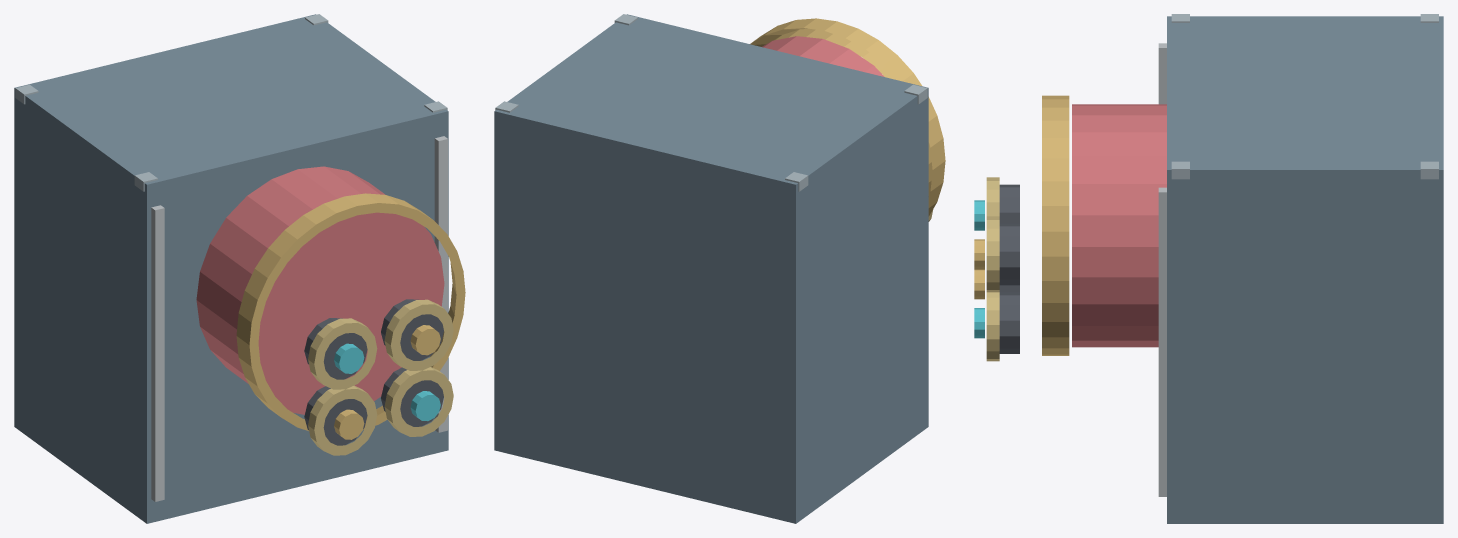
File: 71_L82_EmergencyRFStopStation.glb
The picture shows the model from 3 angles, left to right: view 1: azimuth 30°, elevation 25°; view 2: azimuth 150°, elevation 25°; view 3: azimuth 270°, elevation 25°; orthographic projection. The views are drawn at different scales.
Visible parts, largest first — view 1: EmergencyRFStopStation_Node_0000, EmergencyRFStopStation_Node_0007, EmergencyRFStopStation_Node_0008, EmergencyRFStopStation_Node_0005, EmergencyRFStopStation_Node_0022, EmergencyRFStopStation_Node_0025, EmergencyRFStopStation_Node_0016, EmergencyRFStopStation_Node_0019, EmergencyRFStopStation_Node_0006, EmergencyRFStopStation_Node_0024, EmergencyRFStopStation_Node_0021, EmergencyRFStopStation_Node_0015 (+5 smaller); view 2: EmergencyRFStopStation_Node_0000, EmergencyRFStopStation_Node_0008, EmergencyRFStopStation_Node_0007; view 3: EmergencyRFStopStation_Node_0000, EmergencyRFStopStation_Node_0007, EmergencyRFStopStation_Node_0008, EmergencyRFStopStation_Node_0006, EmergencyRFStopStation_Node_0024, EmergencyRFStopStation_Node_0018, EmergencyRFStopStation_Node_0025, EmergencyRFStopStation_Node_0019, EmergencyRFStopStation_Node_0021, EmergencyRFStopStation_Node_0022, EmergencyRFStopStation_Node_0005.
Part boxes in pixels (x1=…): EmergencyRFStopStation_Node_0000: x1=14, y1=14, x2=448, y2=523; EmergencyRFStopStation_Node_0007: x1=196, y1=166, x2=444, y2=414; EmergencyRFStopStation_Node_0008: x1=236, y1=193, x2=465, y2=430; EmergencyRFStopStation_Node_0005: x1=151, y1=205, x2=164, y2=501; EmergencyRFStopStation_Node_0022: x1=308, y1=318, x2=377, y2=389; EmergencyRFStopStation_Node_0025: x1=384, y1=299, x2=453, y2=370; EmergencyRFStopStation_Node_0016: x1=308, y1=385, x2=377, y2=455; EmergencyRFStopStation_Node_0019: x1=384, y1=367, x2=453, y2=436; EmergencyRFStopStation_Node_0006: x1=434, y1=136, x2=447, y2=432; EmergencyRFStopStation_Node_0024: x1=381, y1=299, x2=443, y2=360; EmergencyRFStopStation_Node_0021: x1=304, y1=318, x2=367, y2=379; EmergencyRFStopStation_Node_0015: x1=304, y1=386, x2=367, y2=445; EmergencyRFStopStation_Node_0000: x1=494, y1=14, x2=928, y2=523; EmergencyRFStopStation_Node_0008: x1=750, y1=18, x2=945, y2=216; EmergencyRFStopStation_Node_0007: x1=762, y1=36, x2=884, y2=76; EmergencyRFStopStation_Node_0000: x1=1167, y1=16, x2=1443, y2=523; EmergencyRFStopStation_Node_0007: x1=1072, y1=104, x2=1166, y2=347; EmergencyRFStopStation_Node_0008: x1=1042, y1=95, x2=1069, y2=355; EmergencyRFStopStation_Node_0006: x1=1158, y1=187, x2=1166, y2=496; EmergencyRFStopStation_Node_0024: x1=999, y1=223, x2=1019, y2=285; EmergencyRFStopStation_Node_0018: x1=999, y1=292, x2=1019, y2=353; EmergencyRFStopStation_Node_0025: x1=986, y1=216, x2=999, y2=292; EmergencyRFStopStation_Node_0019: x1=986, y1=292, x2=999, y2=361; EmergencyRFStopStation_Node_0021: x1=999, y1=184, x2=1019, y2=223; EmergencyRFStopStation_Node_0022: x1=986, y1=177, x2=999, y2=216; EmergencyRFStopStation_Node_0005: x1=1158, y1=43, x2=1166, y2=104.
Bounding box in the file's own units: 0.6752 × 0.7233 × 0.865.
